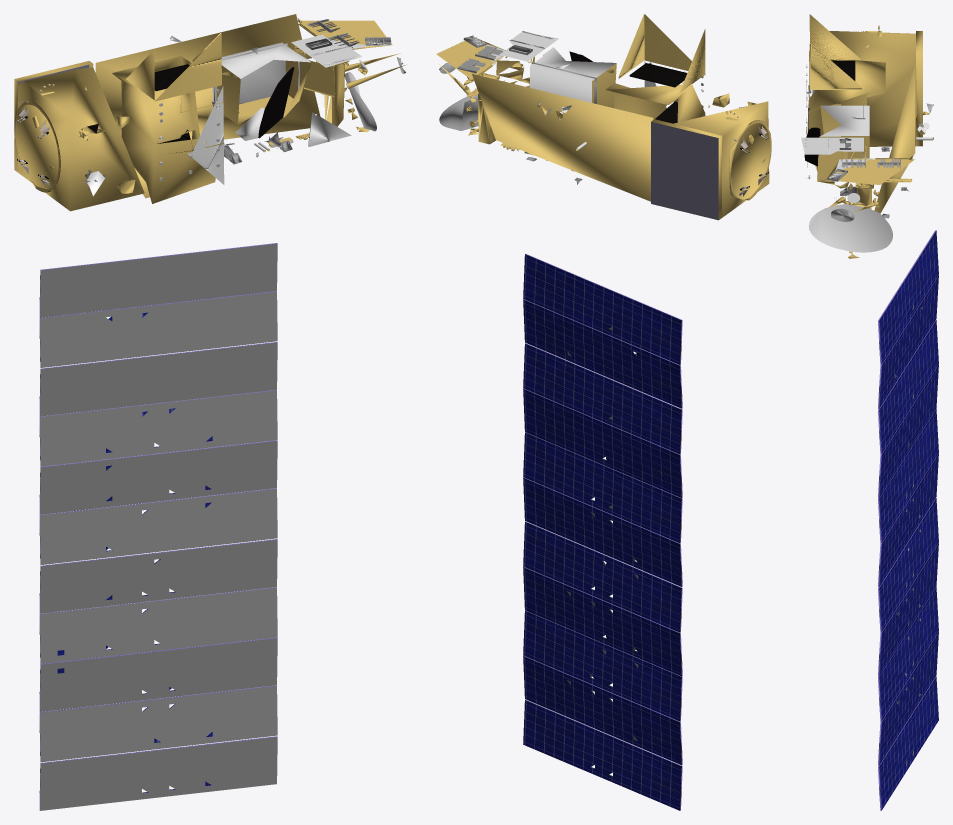
The model's file is aura-c.glb.
3 renders of one model, left to right at view 1: azimuth 30°, elevation 25°; view 2: azimuth 150°, elevation 25°; view 3: azimuth 270°, elevation 25°, orthographic. The views are drawn at different scales.
Visible parts, largest first — view 1: Aura_v024-B_trip [Layer12], Aura_v024-B_trip [Layer10]; view 2: Aura_v024-B_trip [Layer10], Aura_v024-B_trip [Layer12]; view 3: Aura_v024-B_trip [Layer10], Aura_v024-B_trip [Layer12].
Part boxes in pixels (x1=…): Aura_v024-B_trip [Layer12]: x1=14, y1=14, x2=405, y2=810; Aura_v024-B_trip [Layer10]: x1=39, y1=275, x2=263, y2=793; Aura_v024-B_trip [Layer10]: x1=523, y1=254, x2=681, y2=810; Aura_v024-B_trip [Layer12]: x1=436, y1=14, x2=771, y2=810; Aura_v024-B_trip [Layer10]: x1=879, y1=230, x2=938, y2=810; Aura_v024-B_trip [Layer12]: x1=801, y1=14, x2=938, y2=810.
Size of the model in its own units: 8.69 by 18.32 by 3.16.
2 materials, 2 textured.
